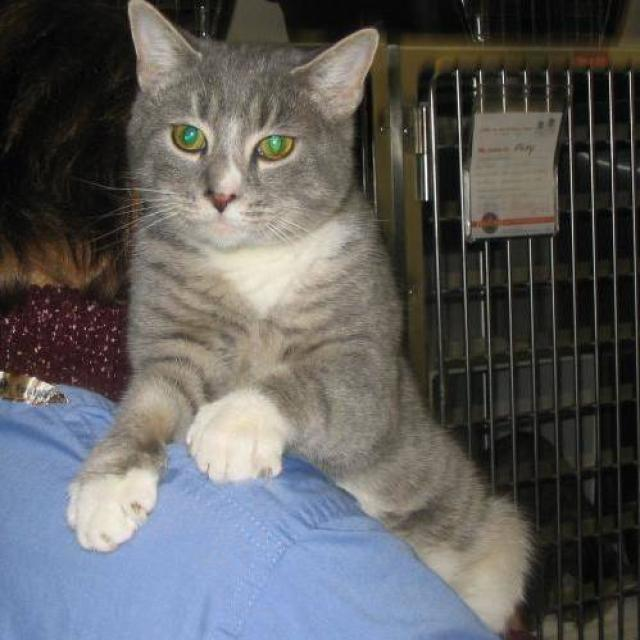cat: (64, 0, 537, 637)
